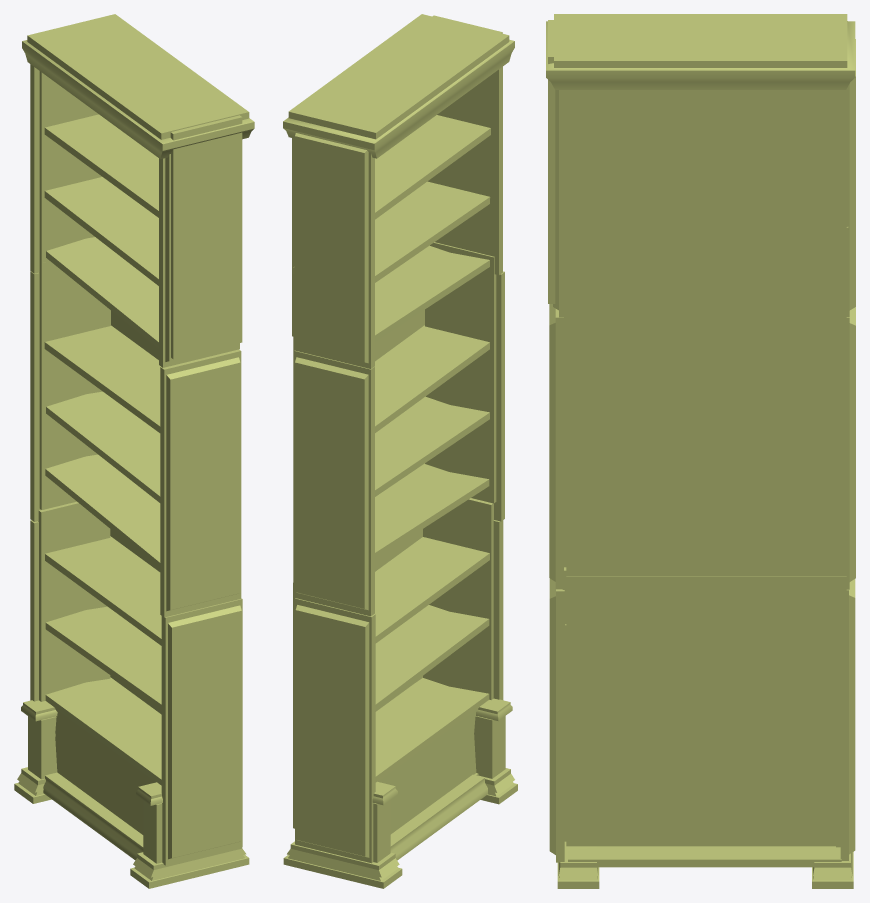
File: Bookcase_04A_Lod0.fbx
3 views of the same model, side by side, from view 1: azimuth 30°, elevation 25°; view 2: azimuth 150°, elevation 25°; view 3: azimuth 270°, elevation 25° (orthographic). The views are drawn at different scales.
Visible parts, largest first — view 1: Bookcase_04A_Lod0; view 2: Bookcase_04A_Lod0; view 3: Bookcase_04A_Lod0.
Boxes of the visible parts, box(x1,y1,x2,y2) form: Bookcase_04A_Lod0: box(14, 14, 254, 888); Bookcase_04A_Lod0: box(283, 14, 517, 888); Bookcase_04A_Lod0: box(546, 14, 855, 888).
Bounding box in the file's own units: 67.05 × 482 × 164.
